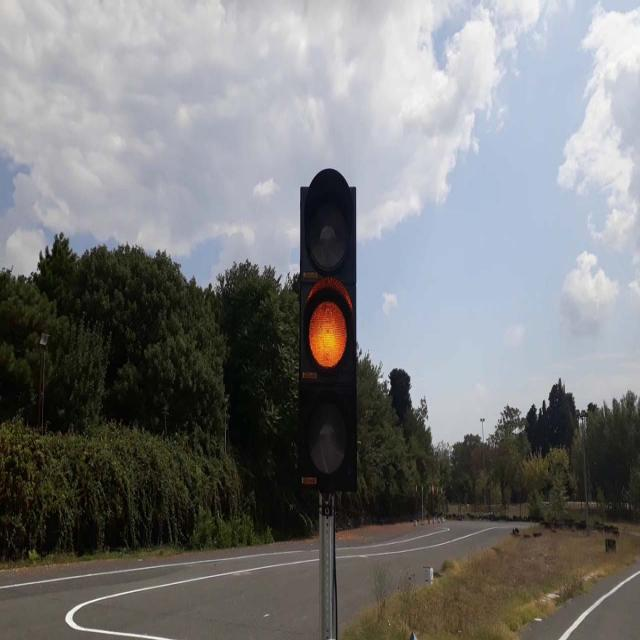sari: (301, 175, 358, 492)
